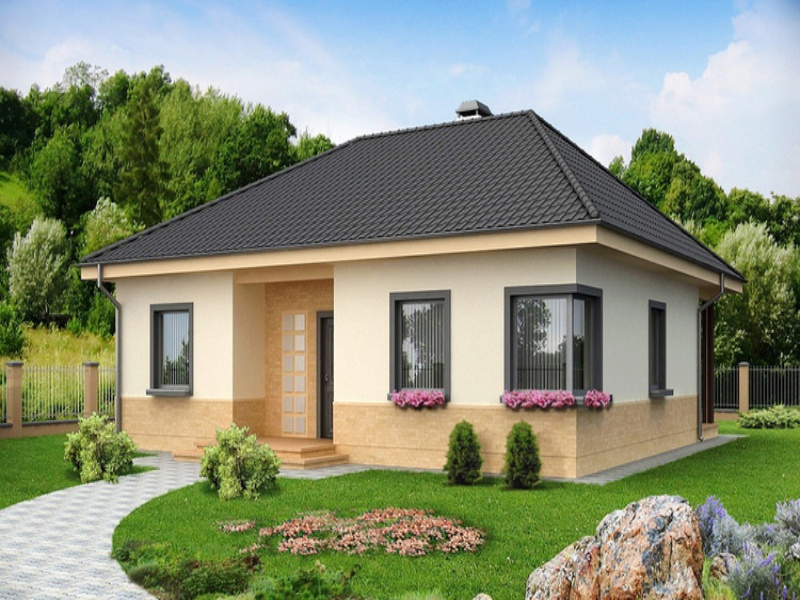window: (501, 277, 610, 395), (383, 289, 456, 398), (142, 297, 199, 395)
